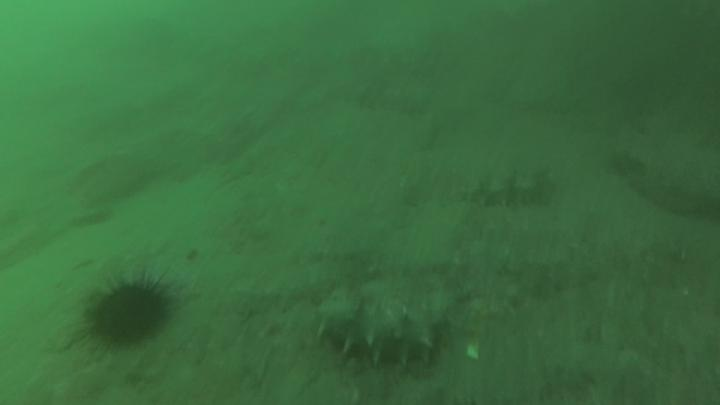echinus: (93, 286, 167, 346)
holothurian: (320, 299, 437, 368), (462, 175, 547, 210)
